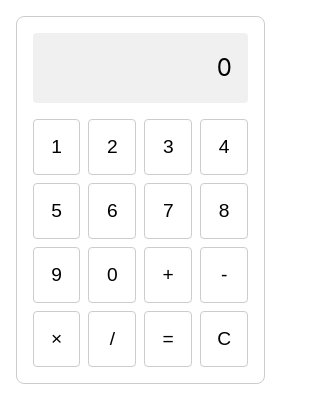
Test: Calculator › clears the display
Click the button "1" at (57, 147), box [33,119,80,175]
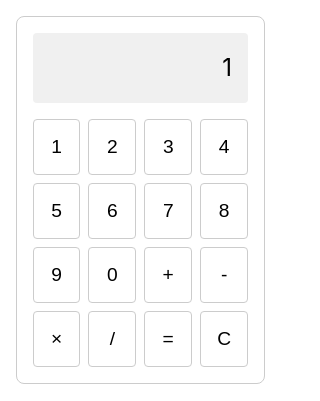
Click the button "2" at (112, 147), box [88,119,136,175]
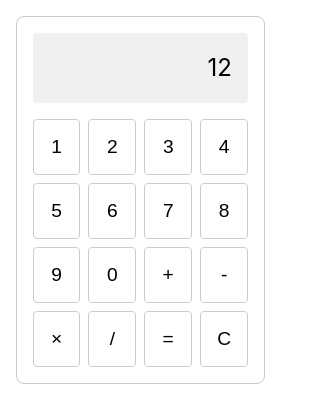
Click the button "C" at (224, 339), box [200,311,248,367]
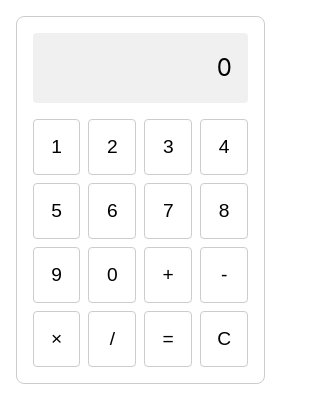
Result: the text with class "display" reads "0" at [217,53,232,82]
